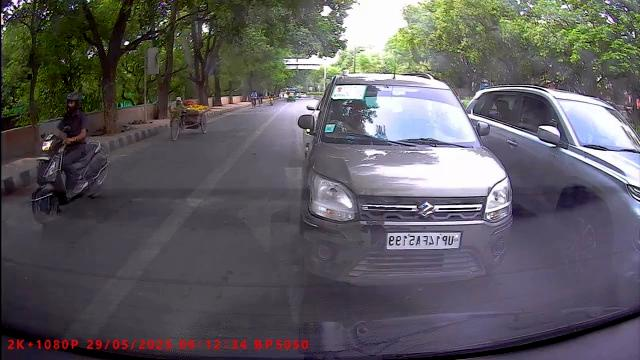motorcycle_with_helmet: (29, 90, 110, 227)
